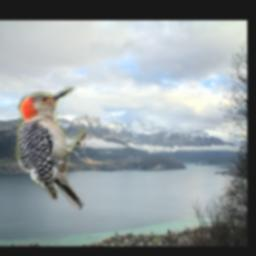Woodpecker: (11, 85, 87, 216)
